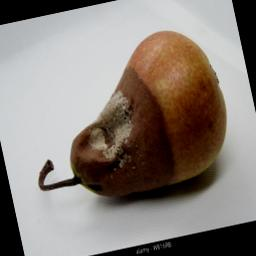Peach Rotten: (6, 16, 244, 220)
